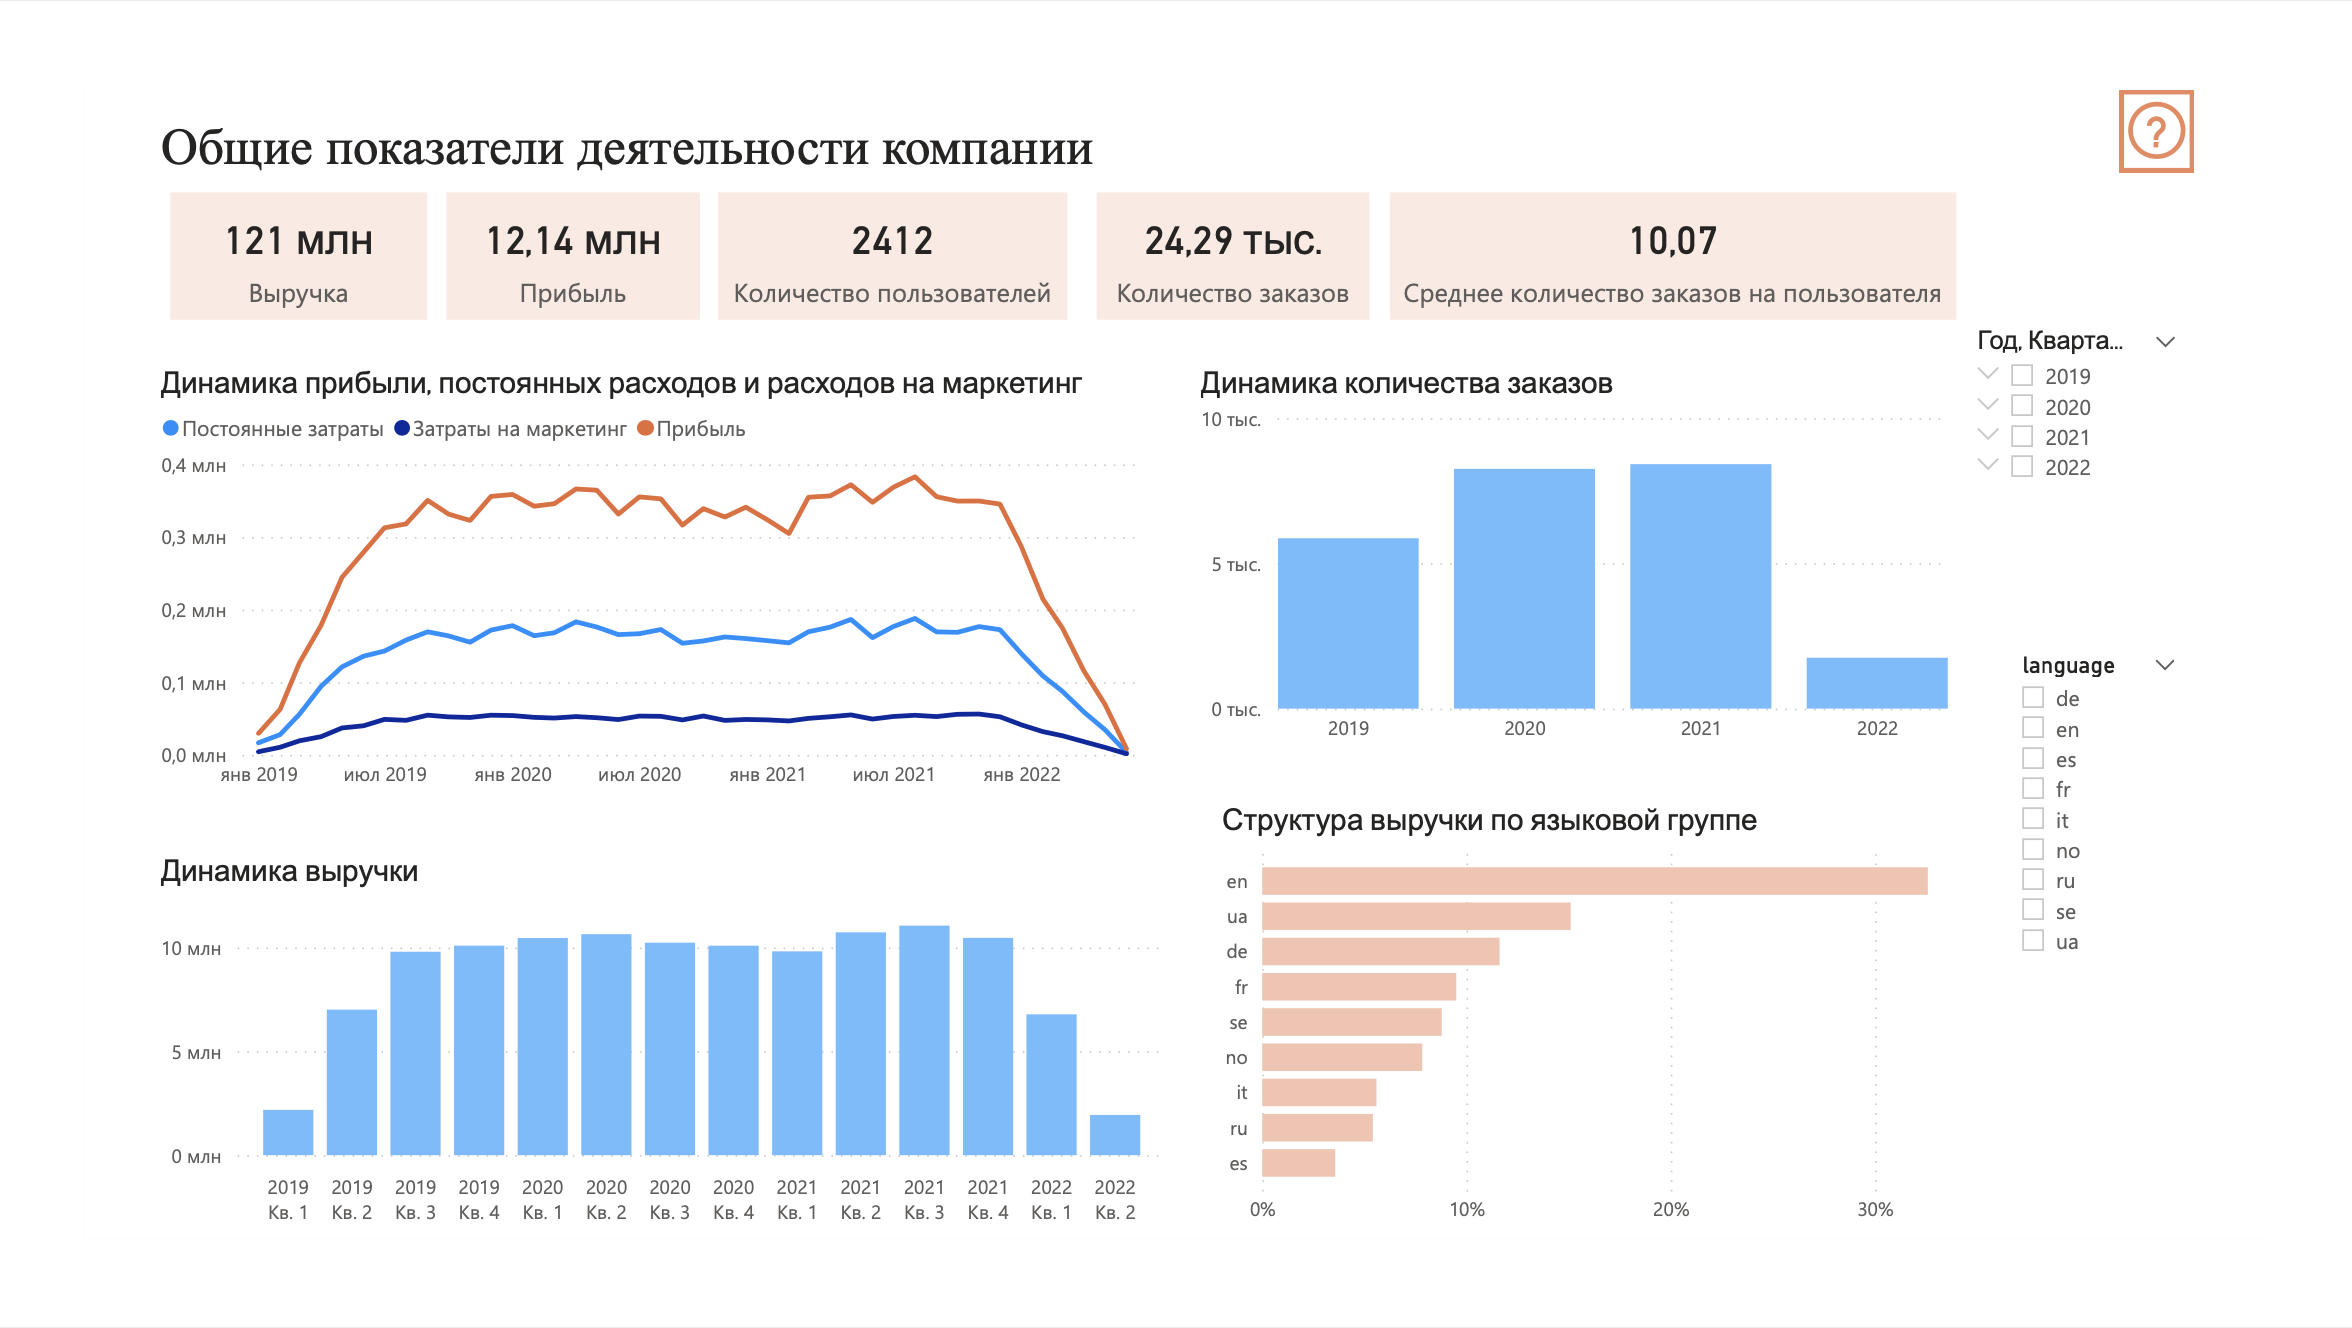

The dashboard page shown, as its layout file describes it:
{"tool":"powerbi","page":{"name":"Общие данные","canvas":[1280,720],"ordinal":1},"visuals":[{"type":"slicer","fields":{"Values":["Все пользователи.language"]},"box":[1158.6,346.6,121.4,204.7],"z":0},{"type":"slicer","fields":{"Values":["Все пользователи.created_date.Изменение.Иерархия дат.Год","Все пользователи.created_date.Изменение.Иерархия дат.Квартал","Все пользователи.created_date.Изменение.Иерархия дат.Месяц","Все пользователи.created_date.Изменение.Иерархия дат.День"]},"box":[1130,143.9,150,203.6],"z":1000},{"type":"textbox","box":[0,12.2,1205,52.1],"z":2000},{"type":"card","fields":{"Values":["Sum(Все пользователи.transaction_value)"]},"box":[10.7,64.3,160.8,79.6],"z":3000},{"type":"card","fields":{"Values":["Sum(Все пользователи.commission)"]},"box":[183.7,64.3,159.2,79.6],"z":4000},{"type":"card","fields":{"Values":["Все пользователи.Среднее количество заказов на пользователя"]},"box":[774.7,64.3,355.2,79.6],"z":5000},{"type":"card","fields":{"Values":["Count(Все пользователи.user_id)"]},"box":[353.7,64.3,218.9,79.6],"z":6000},{"type":"card","fields":{"Values":["Count(Все пользователи.order_id)"]},"box":[591,64.3,171.5,79.6],"z":7000},{"type":"clusteredColumnChart","title":"Динамика выручки","fields":{"Category":["Все пользователи.created_date.Изменение.Иерархия дат.Год","Все пользователи.created_date.Изменение.Иерархия дат.Квартал","Все пользователи.created_date.Изменение.Иерархия дат.Месяц","Все пользователи.created_date.Изменение.Иерархия дат.День"],"Y":["Sum(Все пользователи.transaction_value)"]},"box":[0,479.2,640,240.4],"z":8000},{"type":"lineChart","title":"Динамика прибыли, постоянных расходов и расходов на маркетинг","fields":{"Category":["Все пользователи.created_date.Изменение.Иерархия дат.Год","Все пользователи.created_date.Изменение.Иерархия дат.Квартал","Все пользователи.created_date.Изменение.Иерархия дат.Месяц","Все пользователи.created_date.Изменение.Иерархия дат.День"],"Y":["Sum(Все пользователи.fixed_cost)","Sum(Все пользователи.promocode_cost)","Sum(Все пользователи.commission)"]},"box":[0,173,640,274.1],"z":9000},{"type":"clusteredColumnChart","title":"Динамика количества заказов","fields":{"Category":["Все пользователи.created_date.Изменение.Иерархия дат.Год","Все пользователи.created_date.Изменение.Иерархия дат.Квартал","Все пользователи.created_date.Изменение.Иерархия дат.Месяц","Все пользователи.created_date.Изменение.Иерархия дат.День"],"Y":["Count(Все пользователи.order_id)"]},"box":[652.2,173,477.7,245],"z":10000},{"type":"barChart","title":"Структура выручки по языковой группе","fields":{"Category":["Все пользователи.language"],"Y":["Sum(Все пользователи.transaction_value)"]},"box":[664.5,447.1,494.5,272.5],"z":11000},{"type":"actionButton","box":[1232.5,0,47.5,52.1],"z":12000}]}

Visuals, with their boxes in screenshot pixels (x1, y1, x2, y2), scaled from the page's 1280x720 canvas onto the 2352x1328 screenshot:
slicer - Все пользователи.language: 2129:639:2351:1017
slicer - Все пользователи.created_date.Изменение.Иерархия дат.Год x Все пользователи.created_date.Изменение.Иерархия дат.Квартал: 2076:265:2351:641
textbox: 0:23:2214:119
card - Sum(Все пользователи.transaction_value): 20:119:315:265
card - Sum(Все пользователи.commission): 338:119:630:265
card - Все пользователи.Среднее количество заказов на пользователя: 1424:119:2076:265
card - Count(Все пользователи.user_id): 650:119:1052:265
card - Count(Все пользователи.order_id): 1086:119:1401:265
"Динамика выручки" clusteredColumnChart: 0:884:1176:1327
"Динамика прибыли, постоянных расходов и расходов на маркетинг" lineChart: 0:319:1176:825
"Динамика количества заказов" clusteredColumnChart: 1198:319:2076:771
"Структура выручки по языковой группе" barChart: 1221:825:2130:1327
actionButton: 2265:0:2351:96
